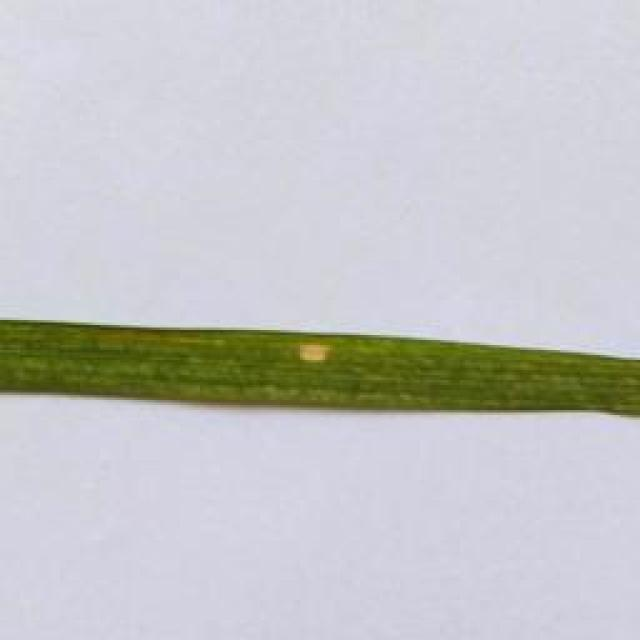Unhealthy: (295, 340, 332, 364)
